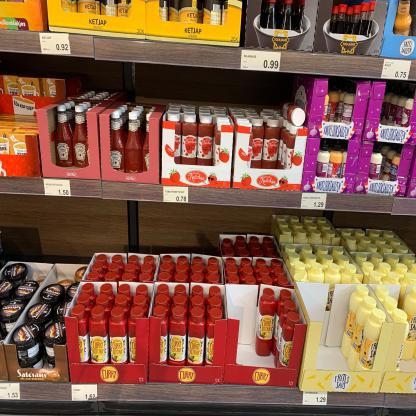prtg: (242, 51, 282, 73), (40, 34, 72, 55), (382, 60, 412, 81), (45, 180, 72, 197), (302, 194, 328, 210), (73, 386, 99, 402), (164, 188, 189, 204), (304, 393, 328, 407), (1, 385, 21, 400)
